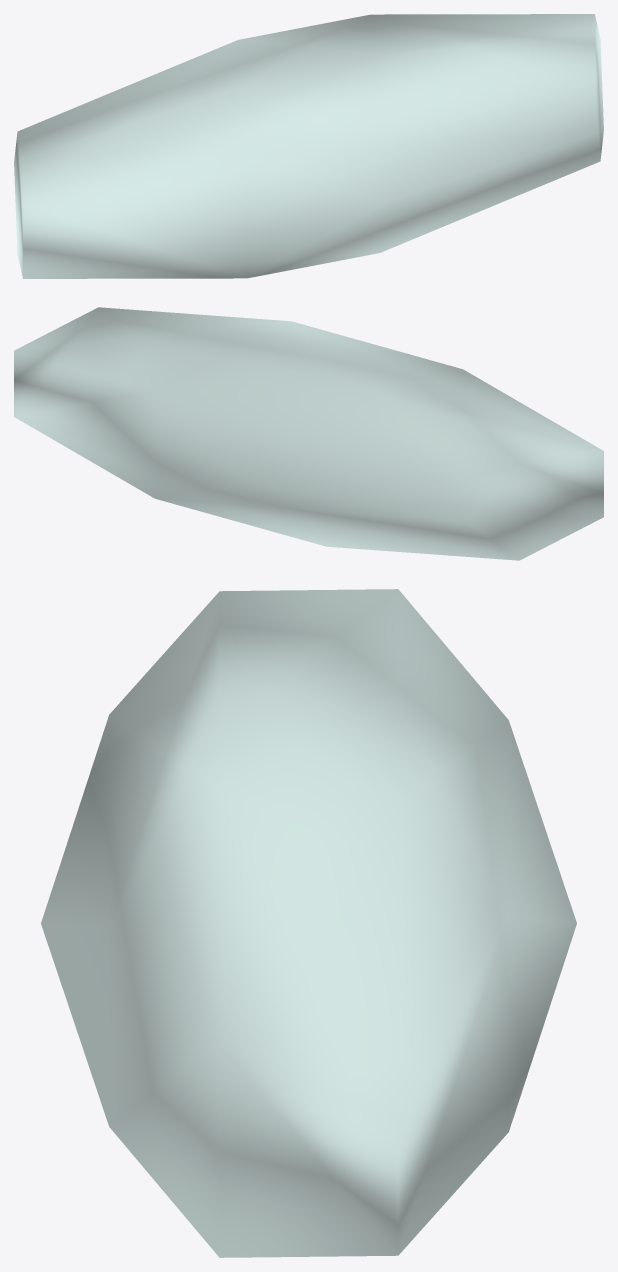
File: cloud.fbx
3 views of the same model, one above another, from view 1: azimuth 30°, elevation 25°; view 2: azimuth 150°, elevation 25°; view 3: azimuth 270°, elevation 25° (orthographic). The views are drawn at different scales.
Visible parts, largest first — view 1: cloud; view 2: cloud; view 3: cloud.
Part boxes in pixels (x1,y1,x2,y2): cloud: (14,14,603,278); cloud: (14,307,603,560); cloud: (41,589,576,1257).
Size of the model in its own units: 166 by 50.28 by 70.51.
